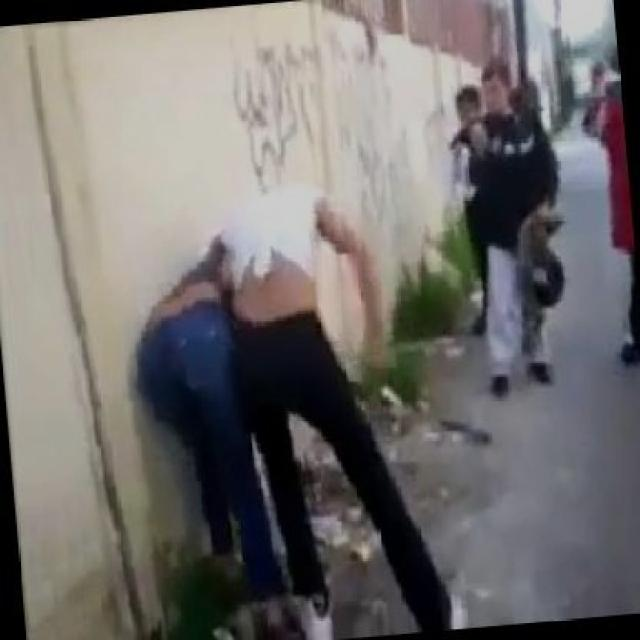fight: (79, 121, 442, 638)
non-fight: (448, 44, 571, 406), (537, 35, 638, 377)
